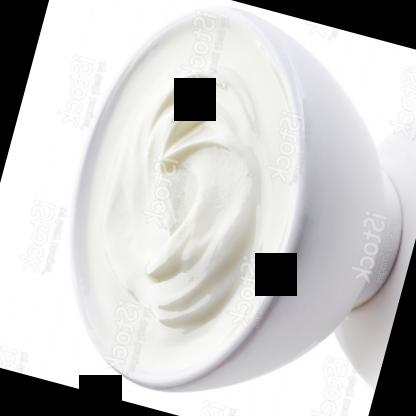yogurt: (26, 0, 415, 415)
